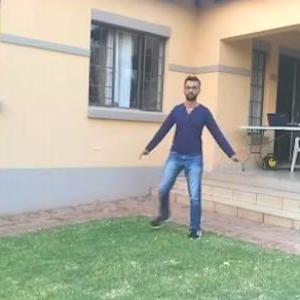land: (148, 86, 237, 228)
